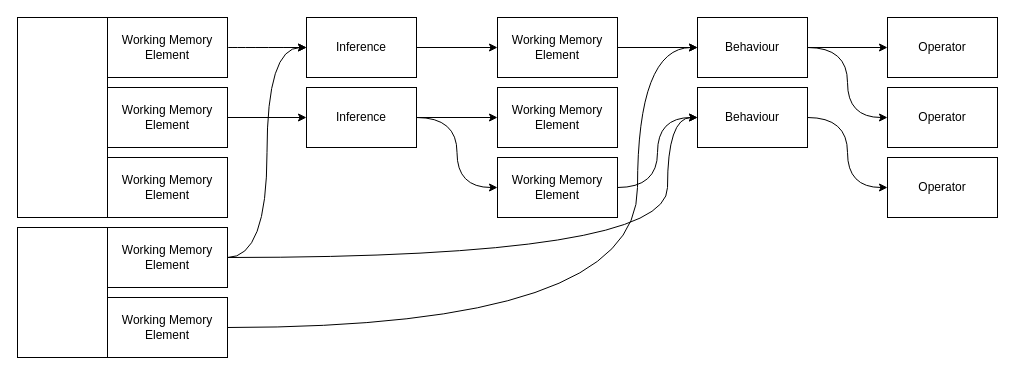
Some shapes in this 1015 by 375 pixel diagram are drawn without their labels. Each missing label, with the box of its shape:
Known: (16, 16, 108, 218)
Perceived: (16, 226, 108, 358)
